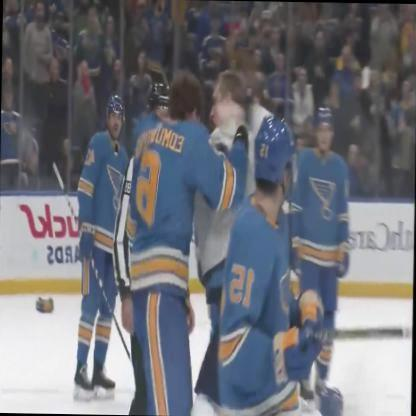non-Voilence: (291, 105, 351, 415), (71, 91, 130, 402)
voilence: (128, 67, 268, 299)
